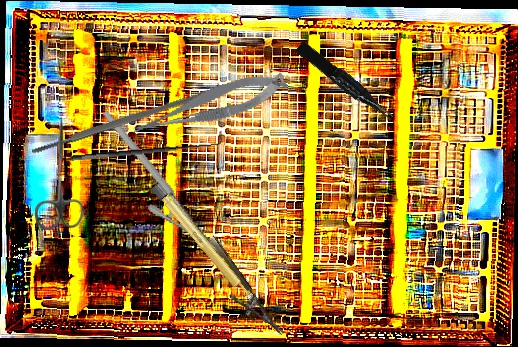Hook Surgical: (69, 130, 226, 163)
Iris Scissors: (35, 116, 84, 230)
Micro Scissor: (126, 67, 292, 141)
Needle Holder: (101, 89, 230, 280), (195, 234, 285, 347)
Scalpel Handle: (30, 72, 259, 156), (149, 180, 257, 307)
Tissue Forceps: (294, 37, 396, 128)
